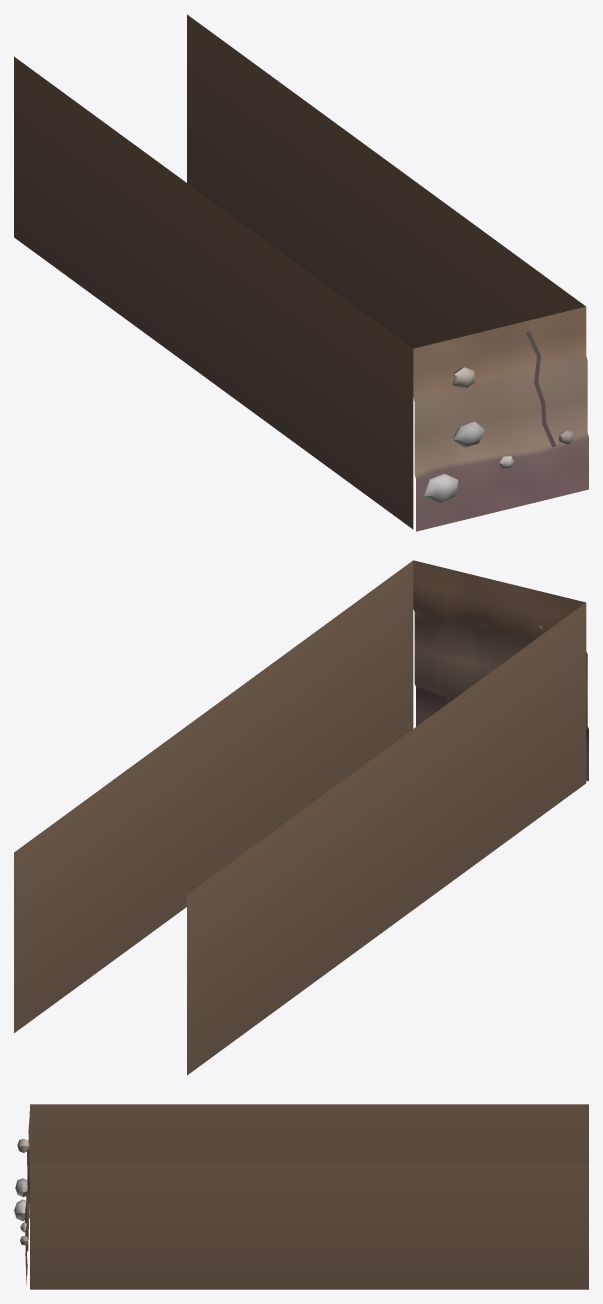
File: ground_deep_1.glb
3 views of the same model, one above another, from view 1: azimuth 30°, elevation 25°; view 2: azimuth 150°, elevation 25°; view 3: azimuth 270°, elevation 25° (orthographic). The views are drawn at different scales.
Parts seen in each view (by area): view 1: ground_deep_1; view 2: ground_deep_1; view 3: ground_deep_1.
Part boxes in pixels (x1,y1,x2,y2): ground_deep_1: (14,14,588,531); ground_deep_1: (14,560,588,1075); ground_deep_1: (14,1104,588,1289).
Bounding box in the file's own units: 1 × 1 × 4.12.
